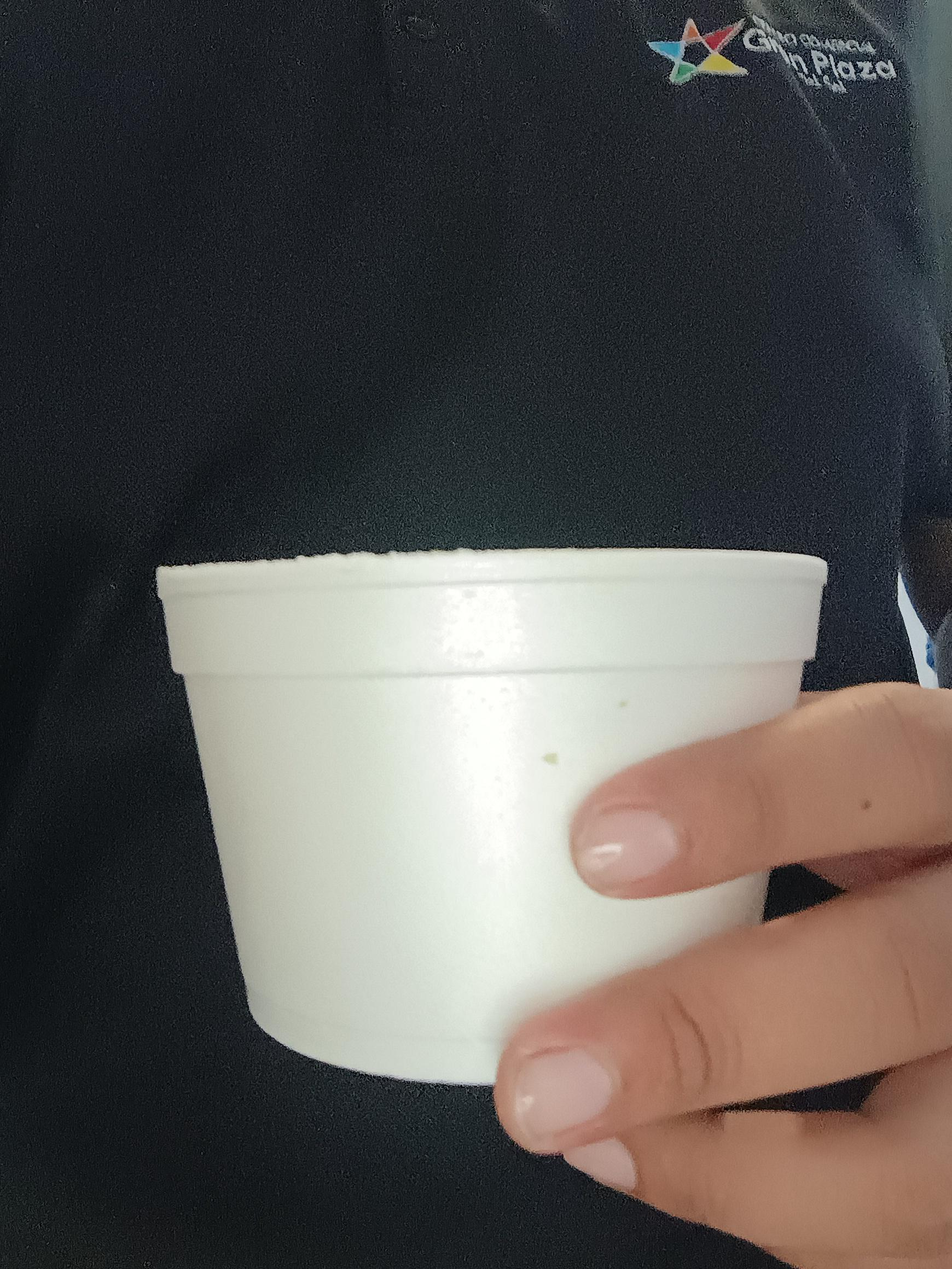Ordinario: (147, 549, 829, 1085)
